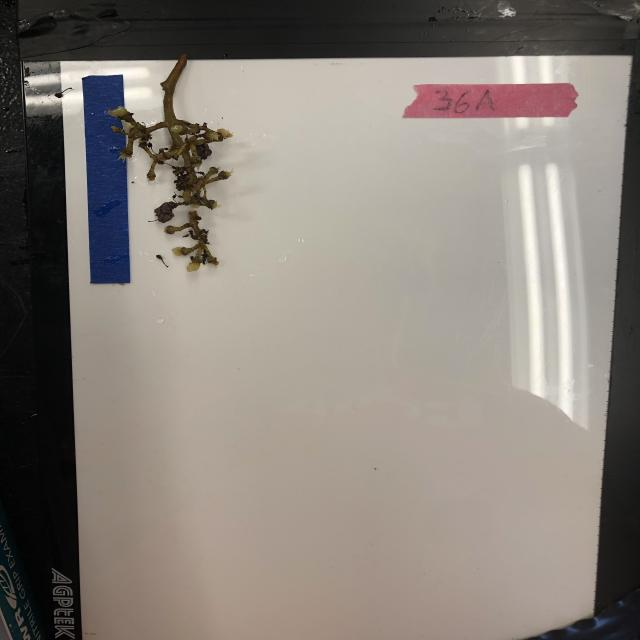index: (397, 80, 585, 122)
measure_label: (80, 73, 134, 286)
rachis_cluster: (108, 48, 253, 274)
